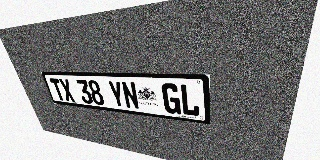3: (76, 79, 94, 104)
8: (87, 80, 105, 106)
G: (161, 83, 181, 115)
L: (179, 84, 200, 117)
N: (121, 81, 140, 110)
T: (49, 78, 66, 101)
X: (58, 79, 76, 102)
Y: (107, 81, 126, 108)
